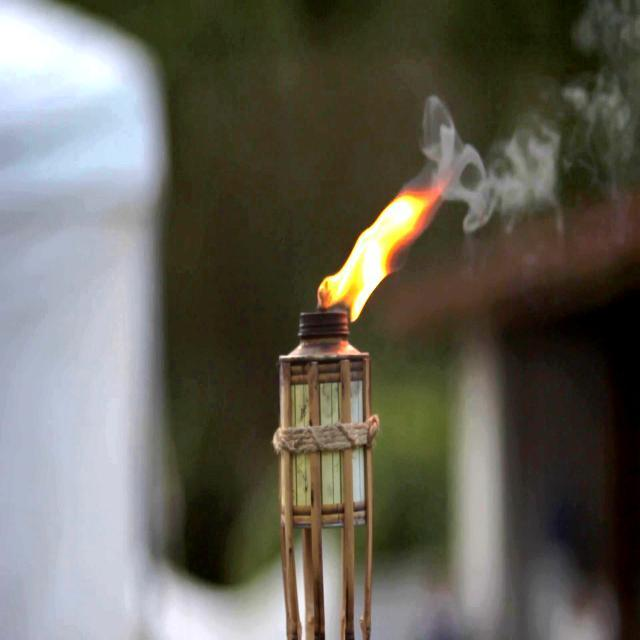Fire: (323, 177, 433, 316)
Smoke: (431, 49, 640, 251)
